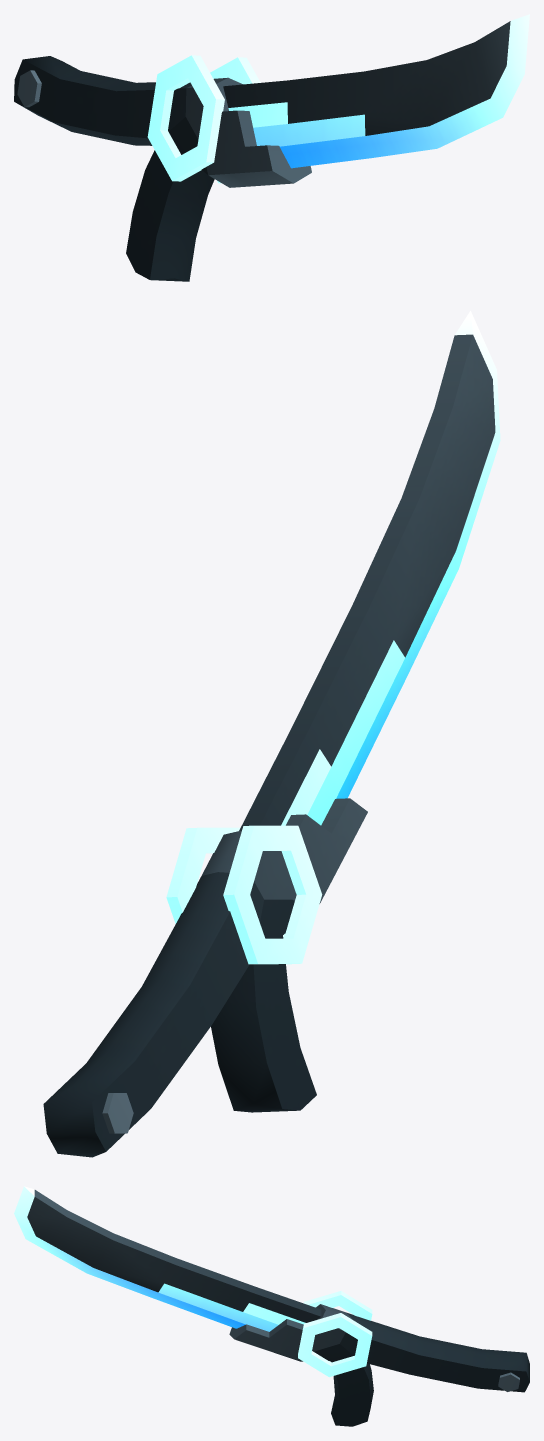
Rendered from Level4Sword.fbx.
The picture shows the model from 3 angles, top to bottom: view 1: azimuth 30°, elevation 25°; view 2: azimuth 150°, elevation 25°; view 3: azimuth 270°, elevation 25°; orthographic projection. The views are drawn at different scales.
Parts seen in each view (by area): view 1: Sword_01_Blue; view 2: Sword_01_Blue; view 3: Sword_01_Blue.
Part boxes in pixels (x1,y1,x2,y2): Sword_01_Blue: (14, 14, 529, 281); Sword_01_Blue: (43, 311, 500, 1157); Sword_01_Blue: (14, 1186, 529, 1426).
Bounding box in the file's own units: 18.04 × 56.25 × 98.37.
1 material, 1 textured.
